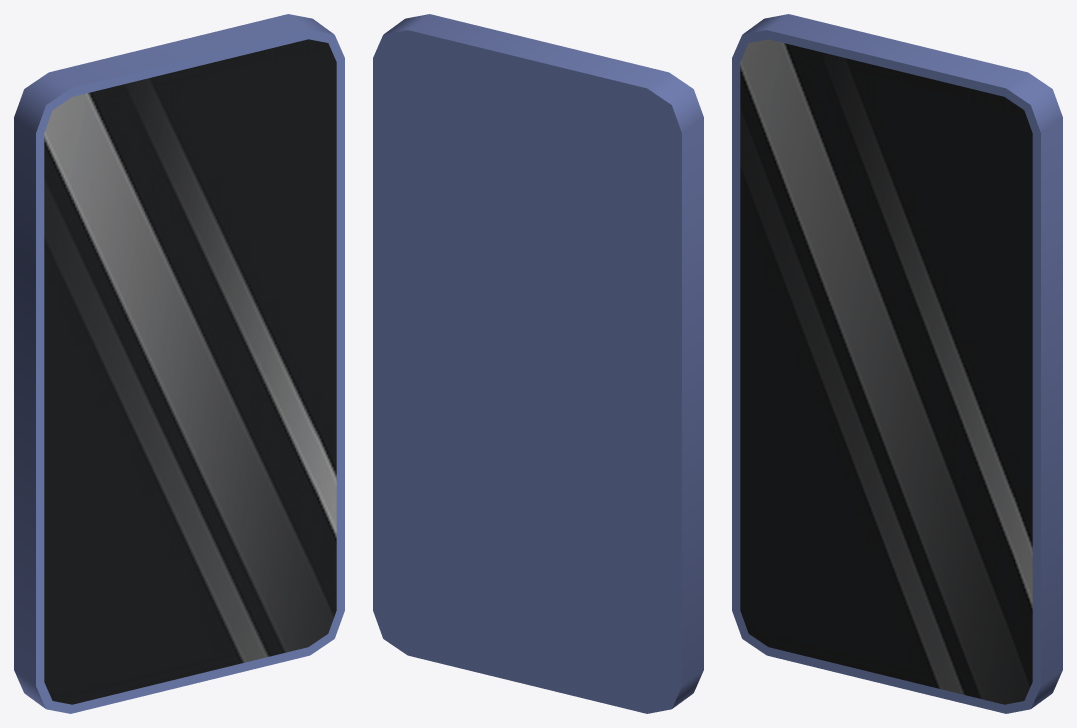
Rendered from Smatphone.fbx.
3 renders of one model, left to right at view 1: azimuth 30°, elevation 25°; view 2: azimuth 150°, elevation 25°; view 3: azimuth 330°, elevation 25°, orthographic.
Parts seen in each view (by area): view 1: Phone; view 2: Phone; view 3: Phone.
Part boxes in pixels (box(x1,y1,x2,y2)): Phone: box(14, 14, 344, 713); Phone: box(373, 14, 703, 713); Phone: box(732, 14, 1062, 713).
Bounding box in the file's own units: 114 × 220 × 13.96.
